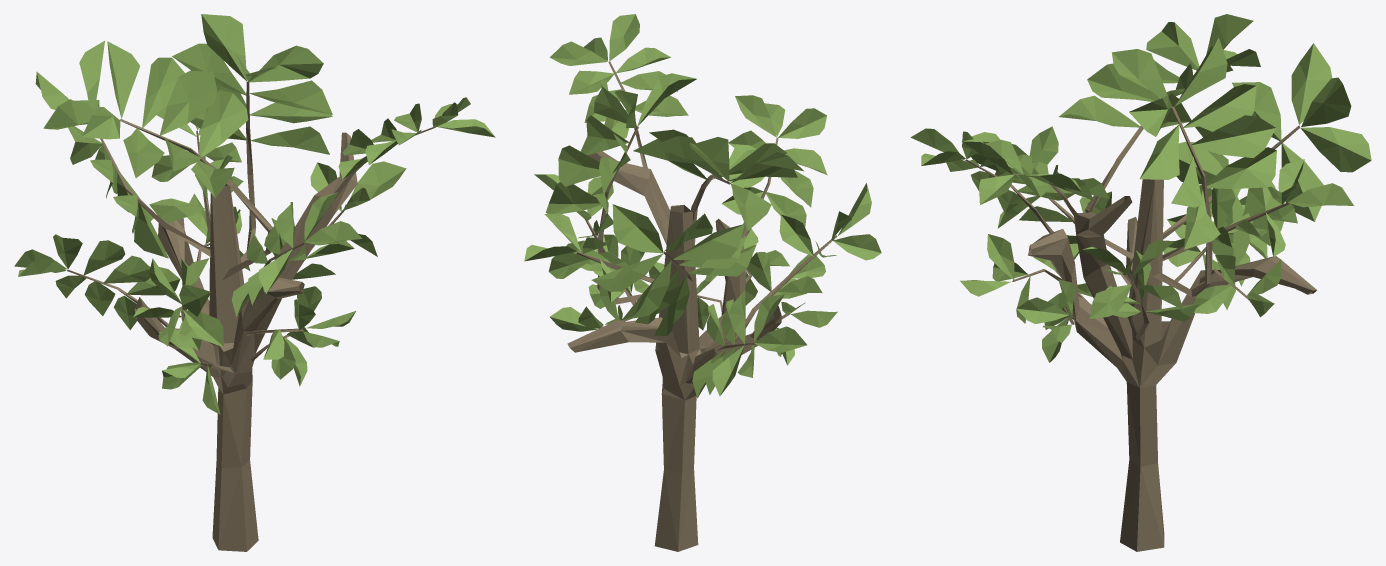
Rendered from Peach_5_3.fbx.
The picture shows the model from 3 angles, left to right: view 1: azimuth 30°, elevation 25°; view 2: azimuth 150°, elevation 25°; view 3: azimuth 270°, elevation 25°; orthographic projection. The views are drawn at different scales.
Visible parts, largest first — view 1: Peach_5_3; view 2: Peach_5_3; view 3: Peach_5_3.
Boxes of the visible parts, x1,y1,x2,y2 form: Peach_5_3: [14, 14, 495, 551]; Peach_5_3: [524, 14, 881, 551]; Peach_5_3: [910, 14, 1371, 551].
Size of the model in its own units: 402 by 530 by 437.
